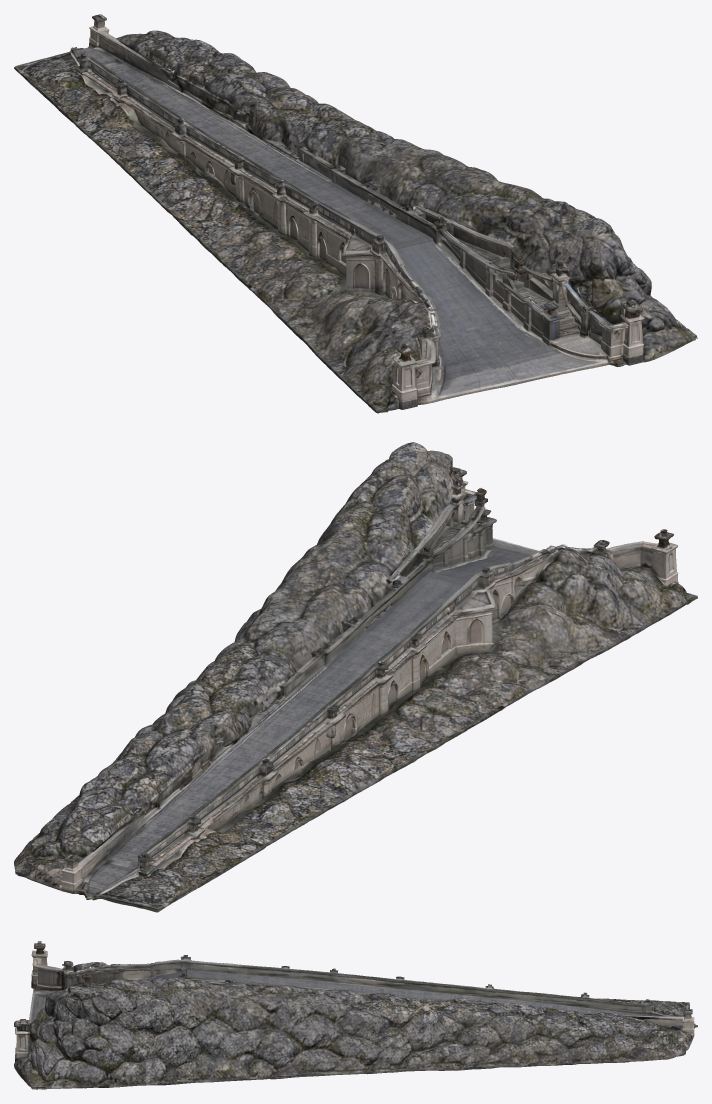
Rendered from stone_bridge.glb.
3 views of the same model, one above another, from view 1: azimuth 30°, elevation 25°; view 2: azimuth 150°, elevation 25°; view 3: azimuth 270°, elevation 25° (orthographic). The views are drawn at different scales.
Size of the model in its own units: 0.3896 by 0.1263 by 0.9831.
Materials: 1 (1 with a texture image).
